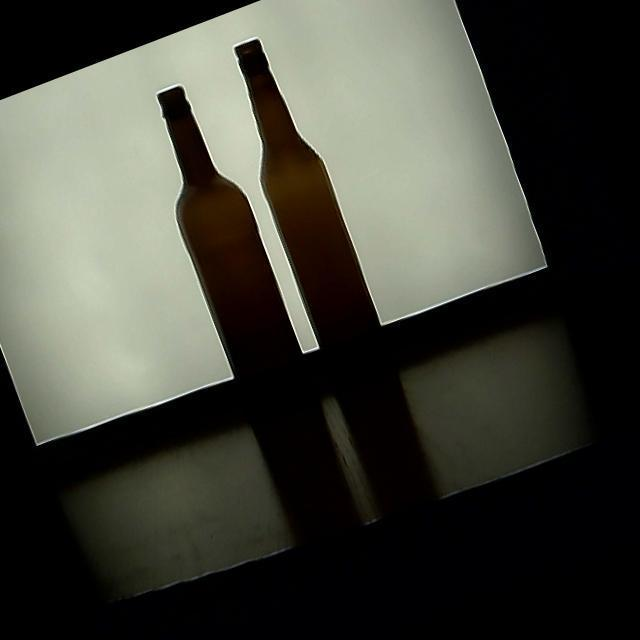Glass: (156, 84, 340, 458), (232, 37, 402, 412)
